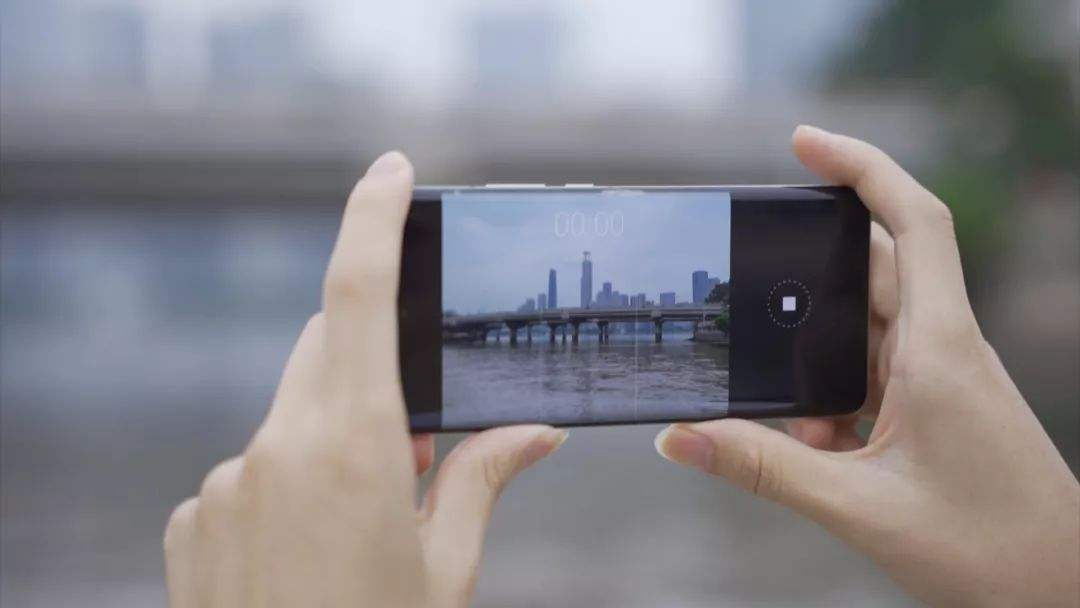taking photos: (153, 116, 1073, 607)
